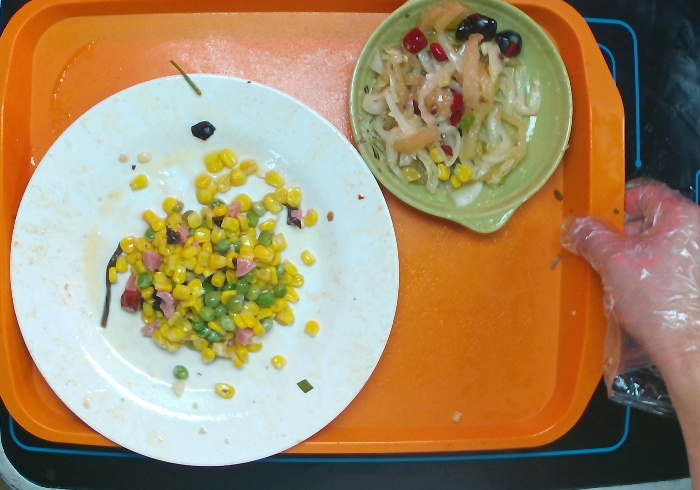NLDX-Da_Yuan_Pan: (10, 72, 398, 468)
NLDX-Lv_Hua_Shuang_Er_Die: (346, 6, 575, 239)
